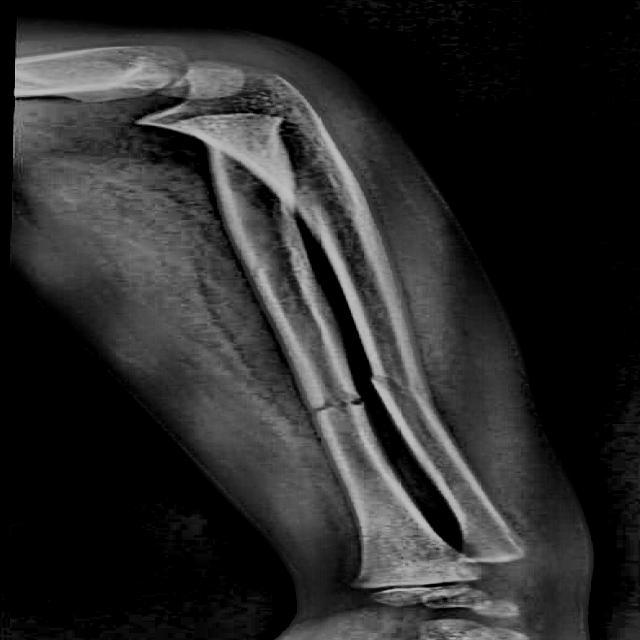fracture: (368, 372, 430, 395), (314, 398, 362, 416)
